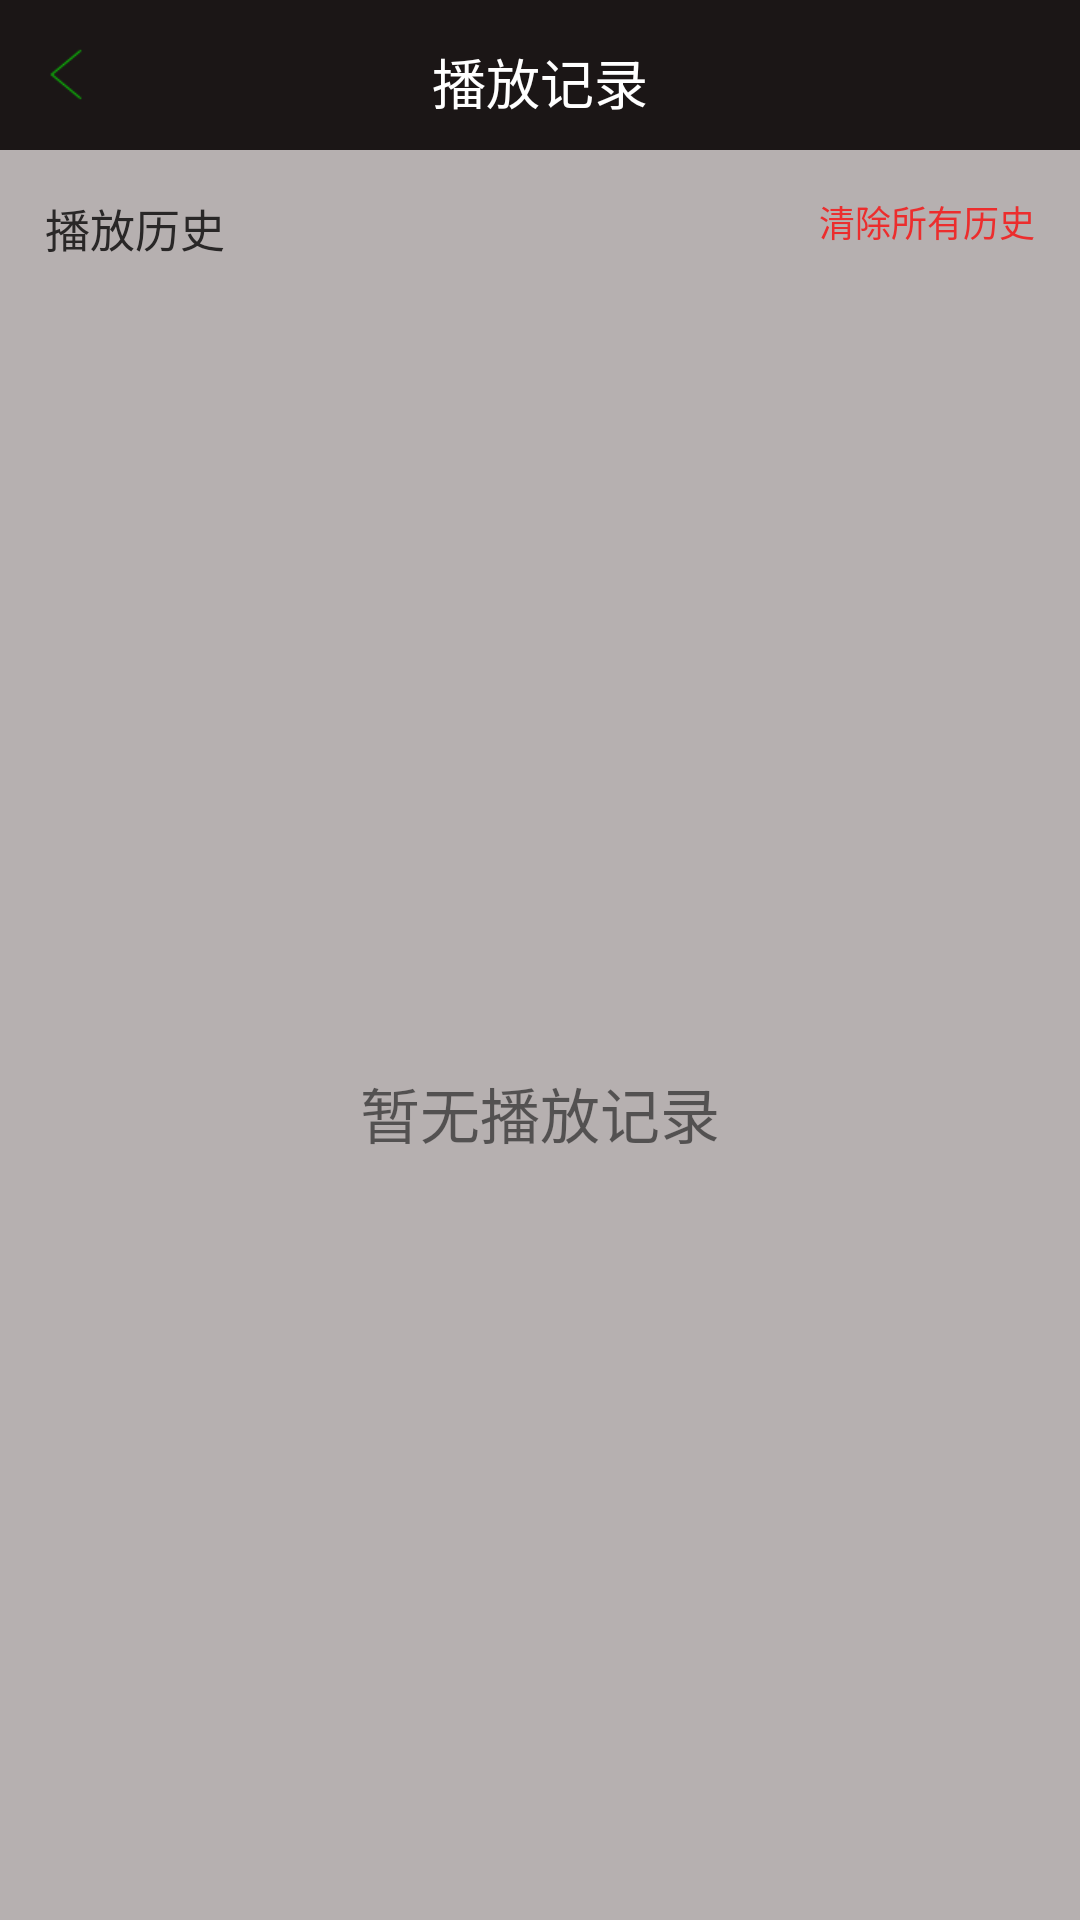

Icon click points for this 1080*1920 phone screenshot, format (x,y):
phone account back: (66,74)
